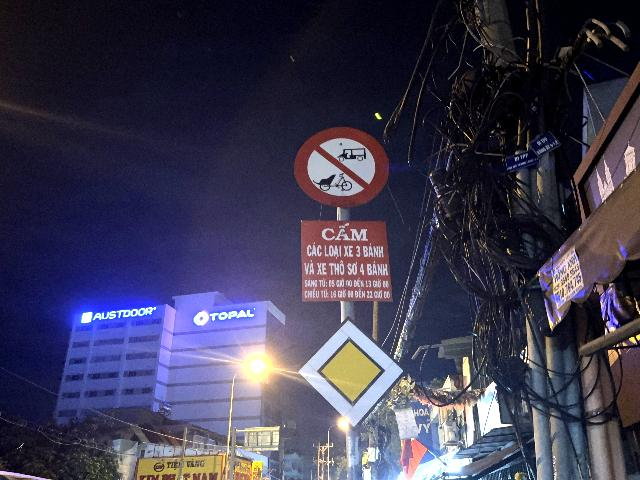bat-dau-duong-uu-tien: (297, 316, 406, 430)
cam-xe-3-banh-xe-tho-so-4-banh: (293, 126, 389, 208)
